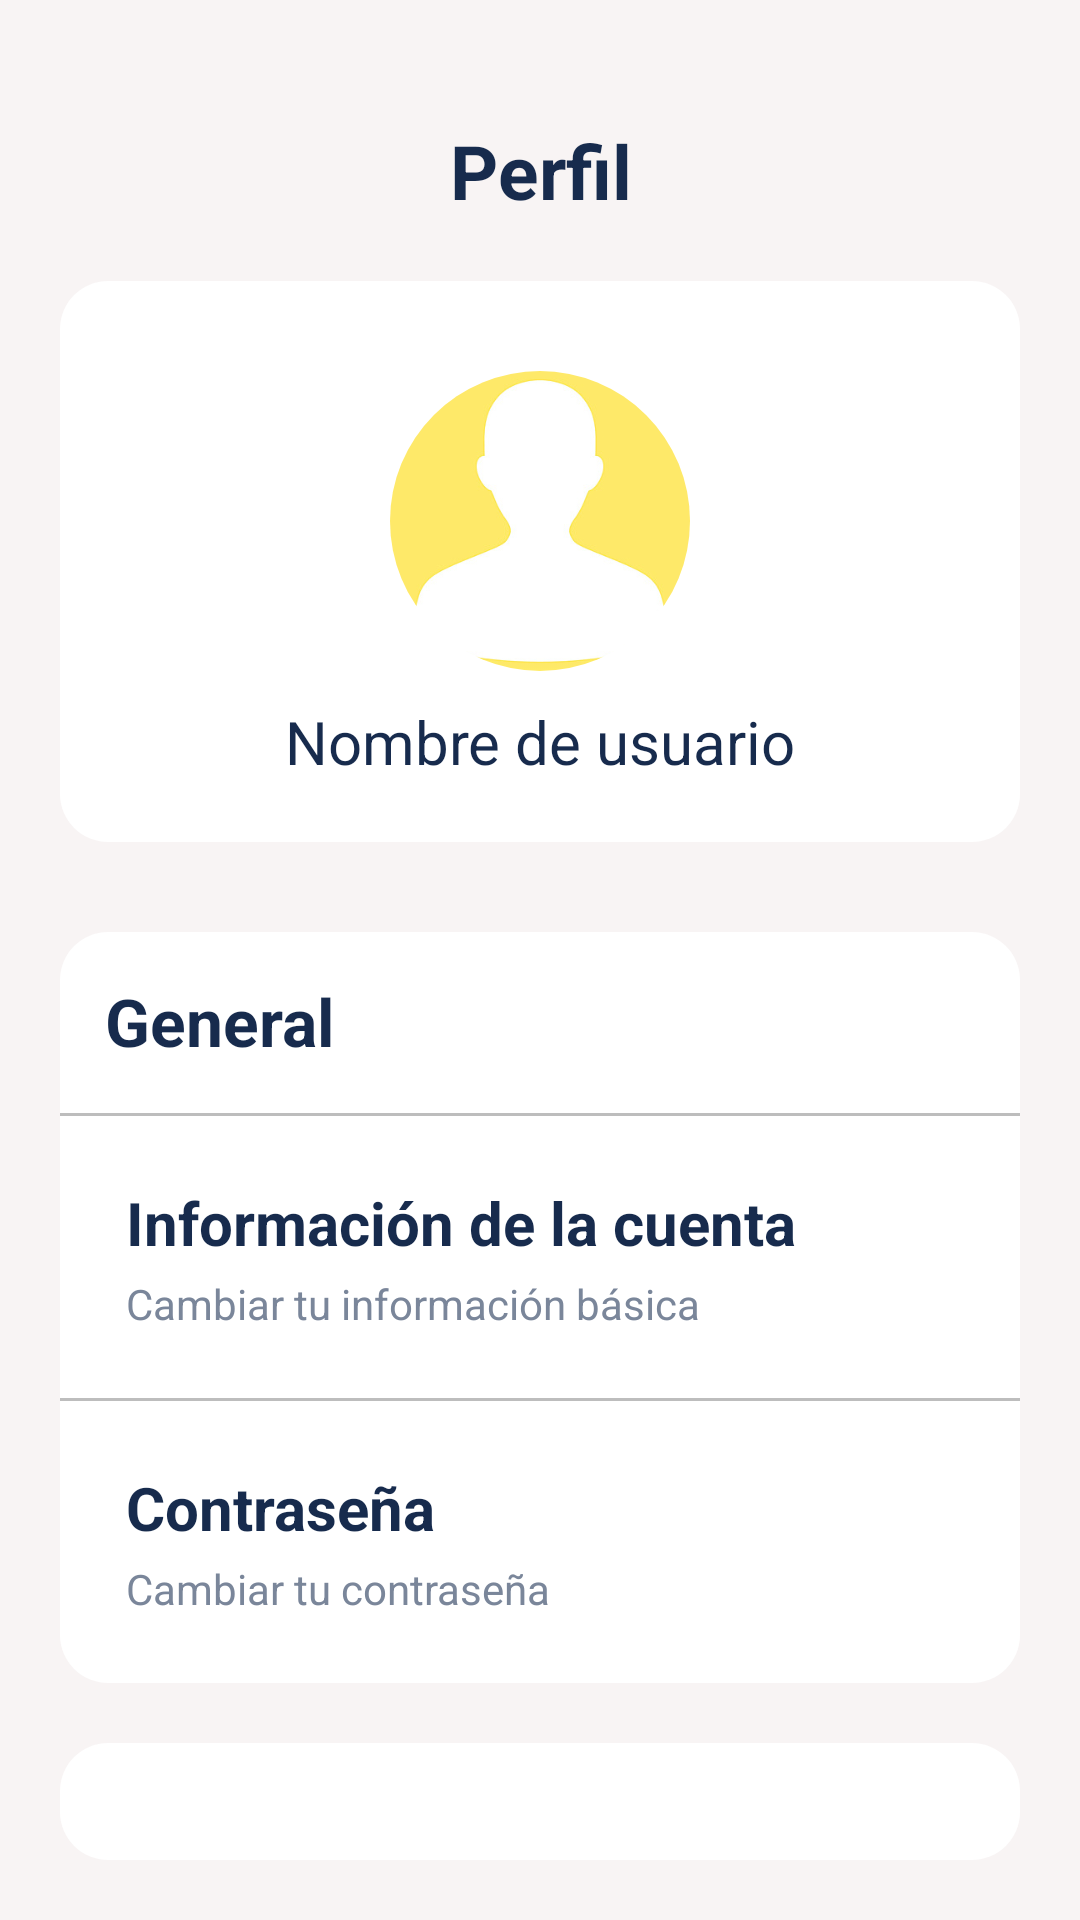

Screen size 1080×1920. Icon name, then its center in pixels as [x,y]:
profilepic: [540,521]
